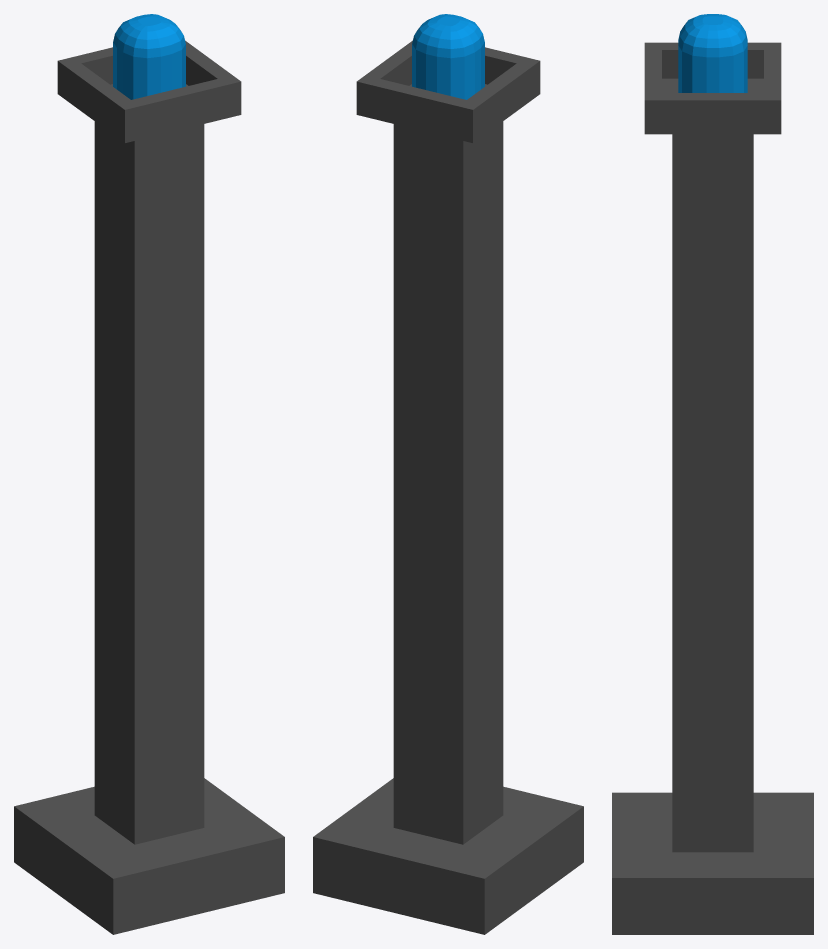
File: LampTower1.fbx
3 views of the same model, side by side, from view 1: azimuth 30°, elevation 25°; view 2: azimuth 150°, elevation 25°; view 3: azimuth 270°, elevation 25° (orthographic).
Parts seen in each view (by area): view 1: Cube.011; view 2: Cube.011; view 3: Cube.011.
Part boxes in pixels (x1,y1,x2,y2): Cube.011: [14, 14, 284, 934]; Cube.011: [313, 14, 583, 934]; Cube.011: [612, 14, 813, 934].
Bounding box in the file's own units: 200 × 953 × 200.
